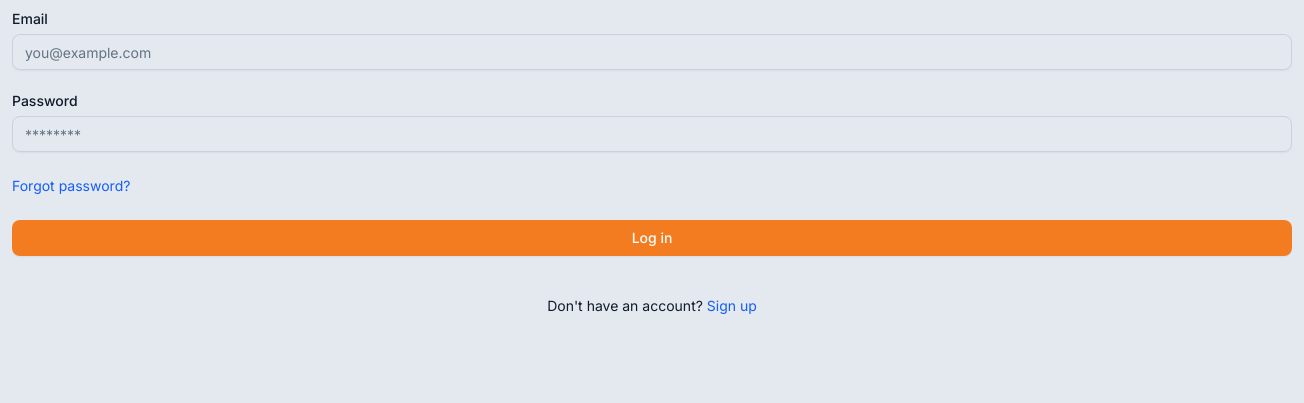
Test: LoginForm › submits the form with valid data
This screenshot has width=1304, height=403.
Fill in form fields
Type "test@example.com" into the field labelled "Email" at (652, 52), box [12,34,1292,70]
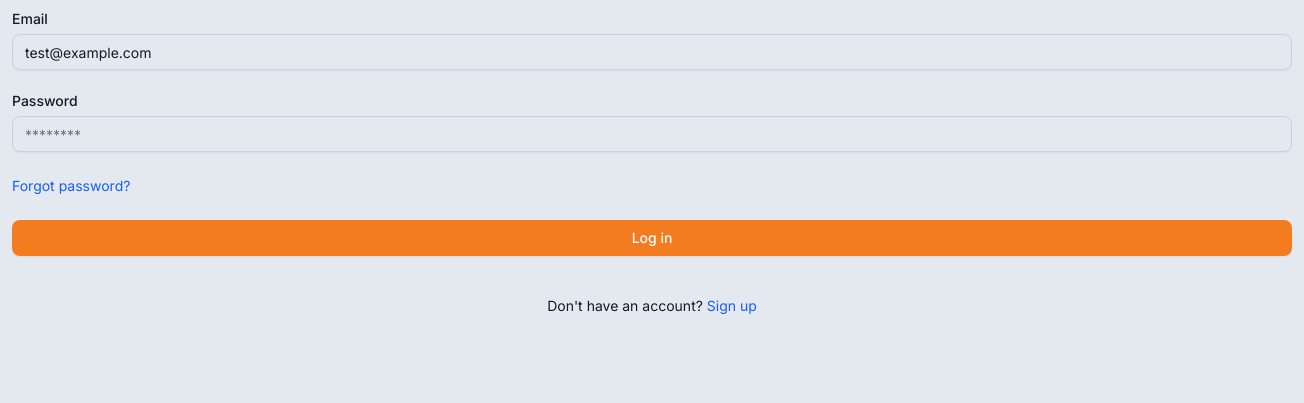
Type "password123" into the password field labelled "Password" at (652, 134), box [12,116,1292,152]
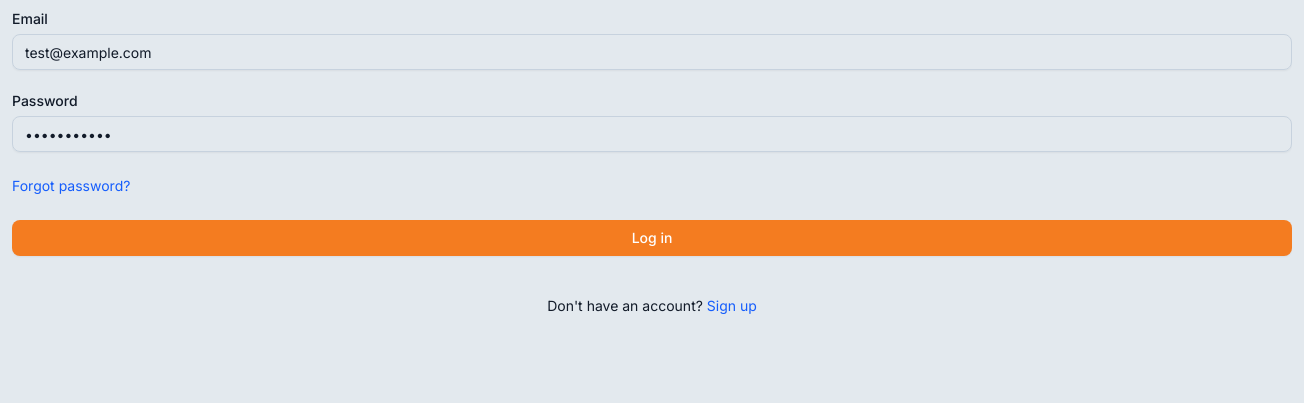
Submit the form
Click the button "Log in" at (652, 238), box [12,220,1292,256]
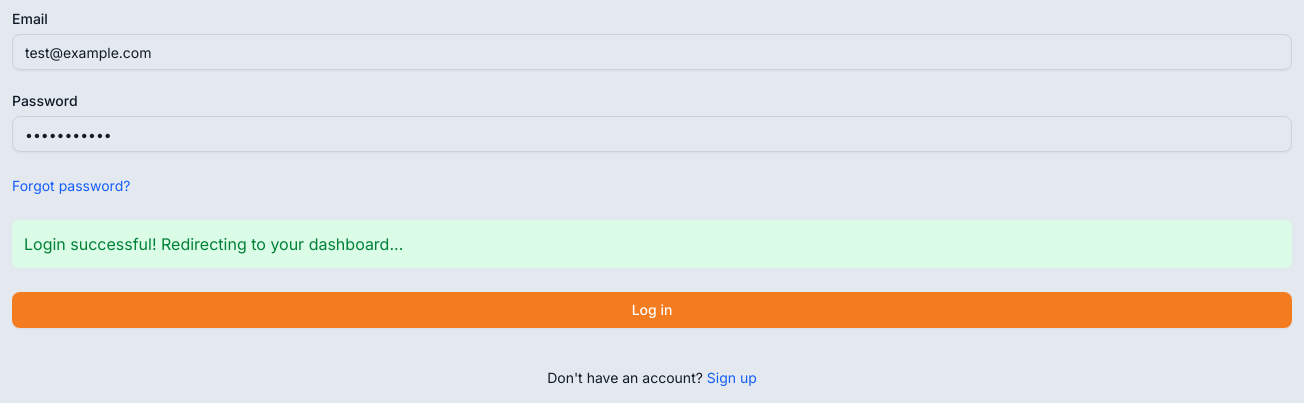
Now the text "Login successful! Redirecting to your dashboard..." is shown, box [12,220,1292,268]
